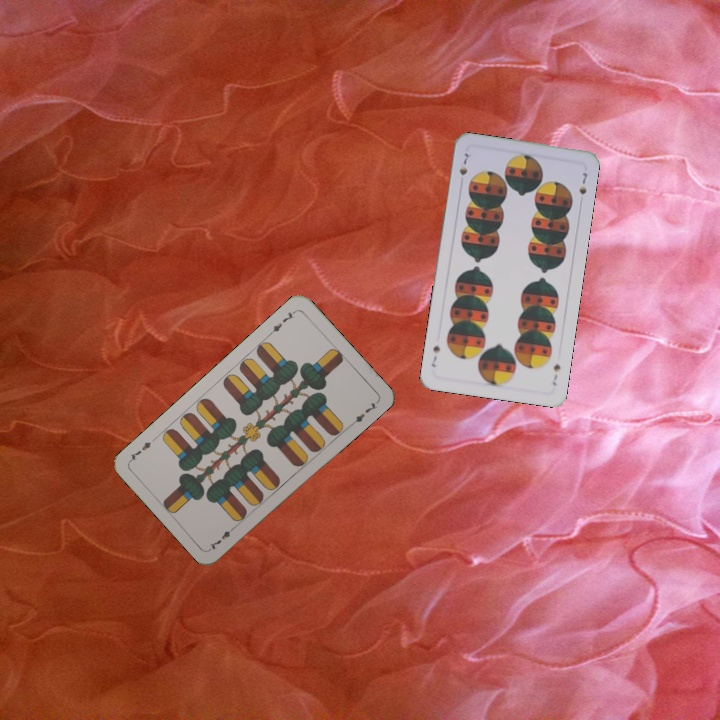E7: (265, 306, 299, 337), (205, 521, 239, 552)
S7: (455, 148, 472, 178), (548, 360, 563, 388)
